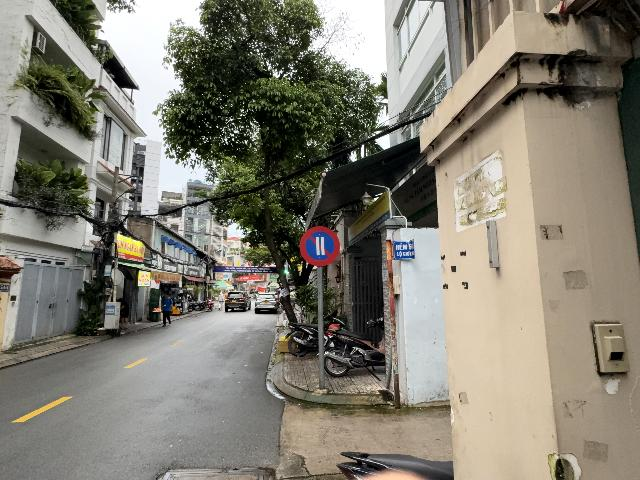cam-do-xe-ngay-chan: (299, 226, 340, 266)
